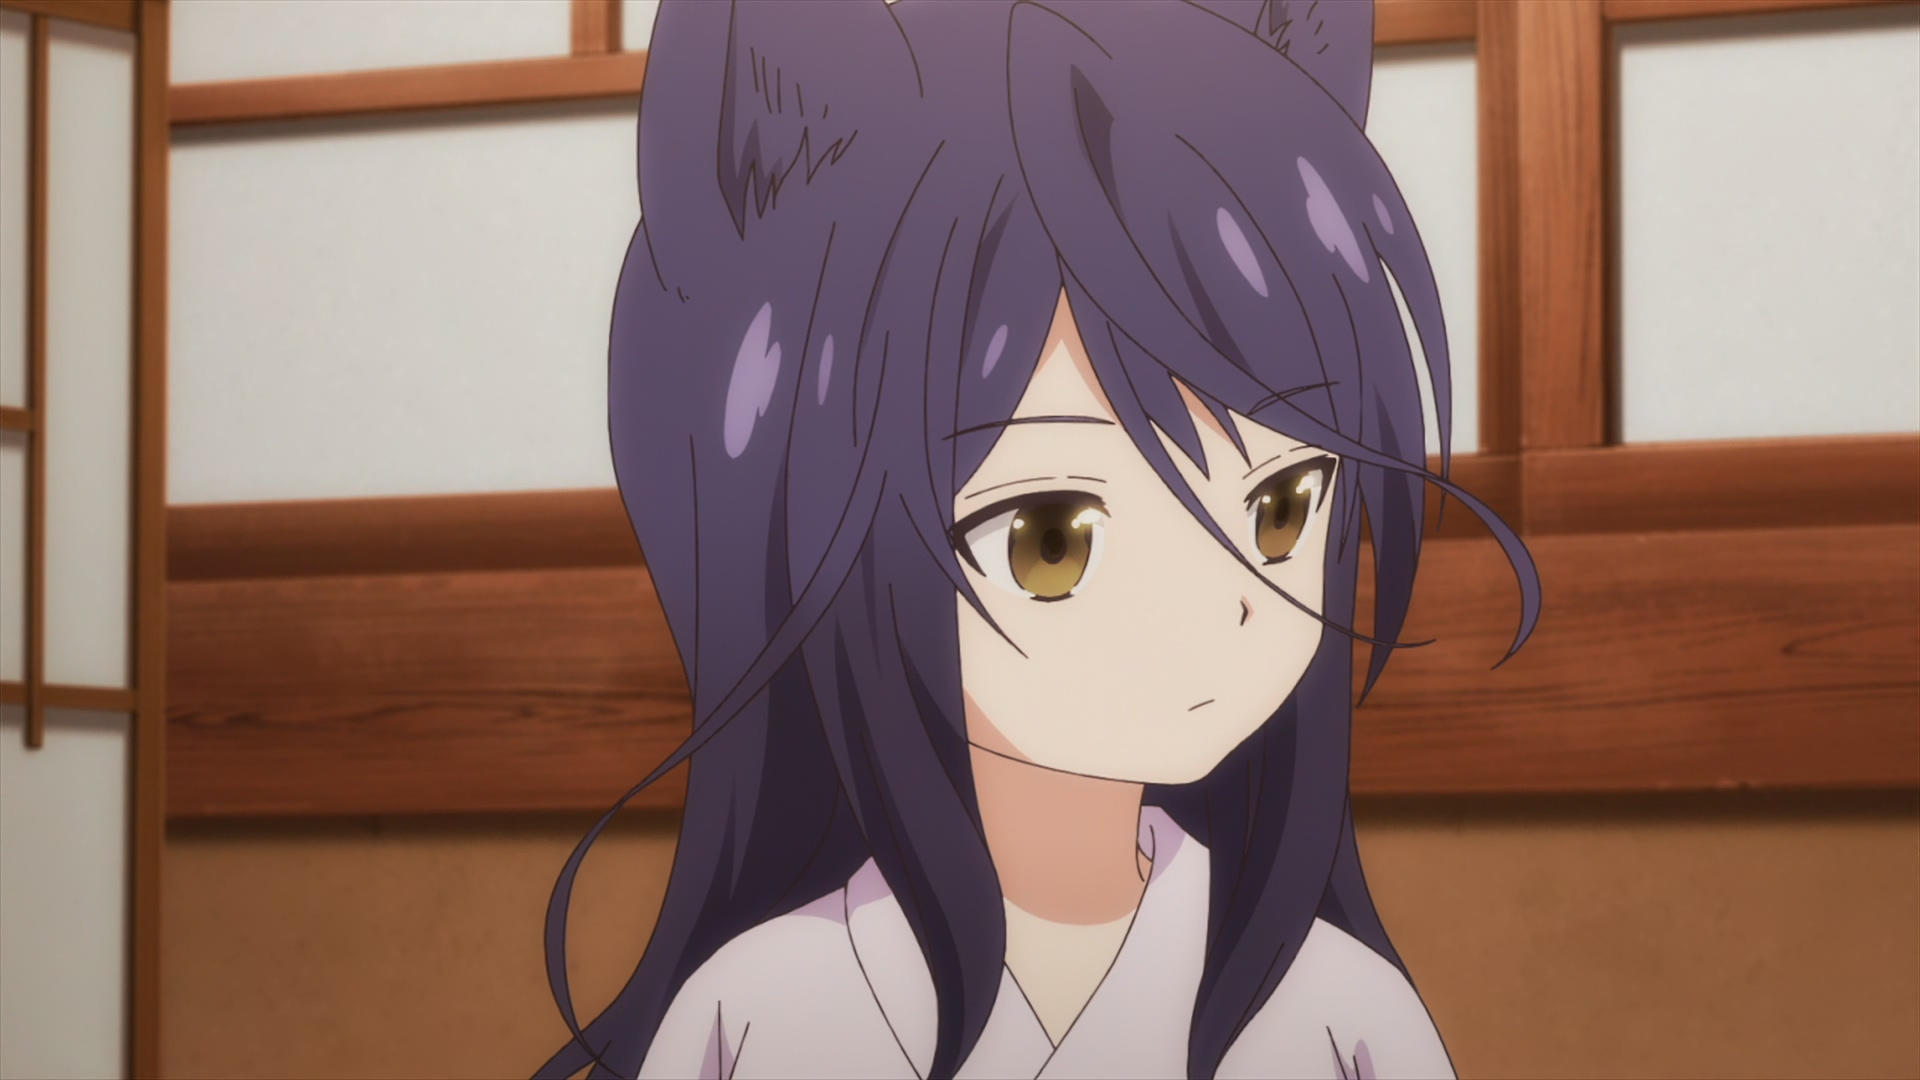皋: (530, 1, 1544, 1080)
